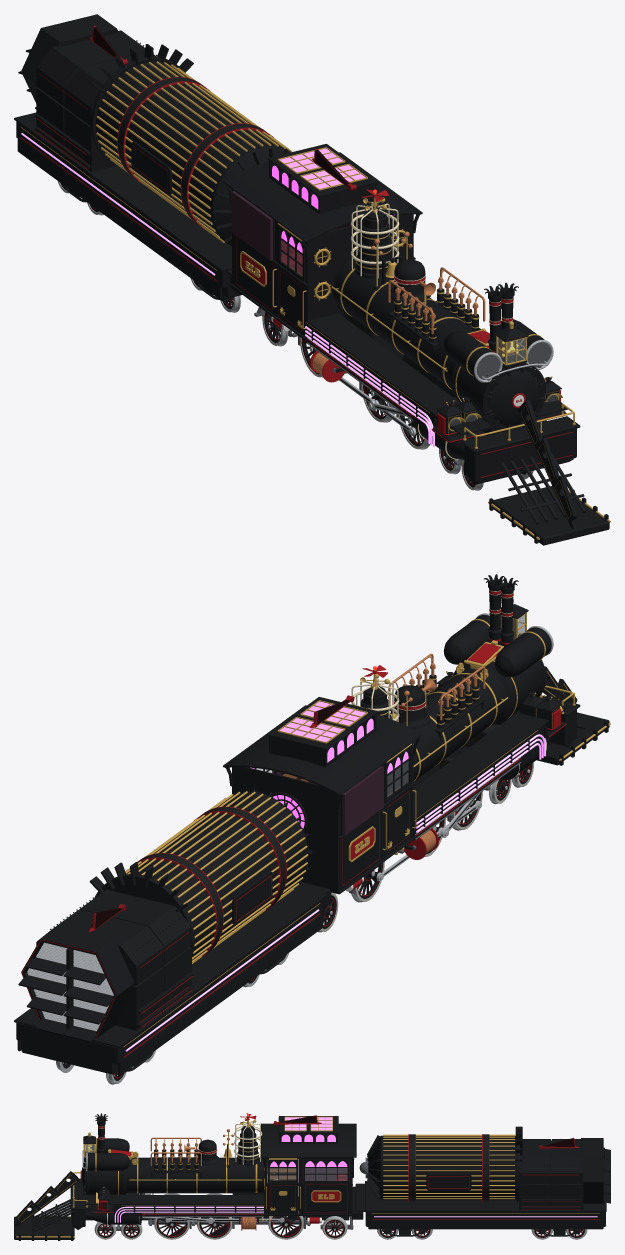
File: timetrain.glb
3 renders of one model, top to bottom at view 1: azimuth 30°, elevation 25°; view 2: azimuth 150°, elevation 25°; view 3: azimuth 270°, elevation 25°, orthographic. The views are drawn at different scales.
Parts seen in each view (by area): view 1: Barrel, TenderFrame, Boiler, Hood, BarrelRibs, CabRoof, RunningBoard_R, FrontDeck, CabFront, RampSill, Clerestory, RearVentUnit (+22 smaller); view 2: TenderFrame, Barrel, Hood, Boiler, BarrelRibs, CabRoof, CabRear, RunningBoard_R, RearVentUnit, RearVentLips, Clerestory, RearVentSlats (+21 smaller); view 3: Barrel, TenderFrame, Boiler, Hood, BarrelRibs, CabRoof, CabSide_L, RunningBoard_L, RearVentUnit, Valance_L, RampSill, BarrelBands (+53 smaller).
Boxes of the visible parts, x1,y1,x2,y2 form: Barrel: (95,62,290,246); TenderFrame: (14,112,241,299); Boiler: (333,259,546,431); Hood: (36,30,156,171); BarrelRibs: (96,61,292,242); CabRoof: (225,153,420,242); RunningBoard_R: (306,313,492,435); FrontDeck: (461,416,580,484); CabFront: (306,214,413,320); RampSill: (489,486,609,545); Clerestory: (267,144,377,214); RearVentUnit: (21,14,118,103); TenderFrame: (14,886,326,1075); Barrel: (126,791,308,960); Hood: (36,889,191,1030); Boiler: (387,659,546,791); BarrelRibs: (125,791,308,963); CabRoof: (225,706,420,795); CabRear: (232,767,338,893); RunningBoard_R: (413,704,568,820); RearVentUnit: (21,924,134,1037); RearVentLips: (18,958,113,1042); Clerestory: (267,697,377,767); RearVentSlats: (27,942,113,1031); Barrel: (368,1135,516,1200); TenderFrame: (365,1181,606,1229); Boiler: (86,1157,264,1195); Hood: (519,1139,583,1209); BarrelRibs: (383,1134,514,1199); CabRoof: (261,1124,356,1156); CabSide_L: (265,1157,352,1214); RunningBoard_L: (85,1195,265,1204); RearVentUnit: (581,1138,603,1203); Valance_L: (112,1203,265,1216); RampSill: (14,1214,74,1240); BarrelBands: (409,1134,489,1201).
Bounding box in the file's own units: 3.32 × 5.5 × 25.11.
